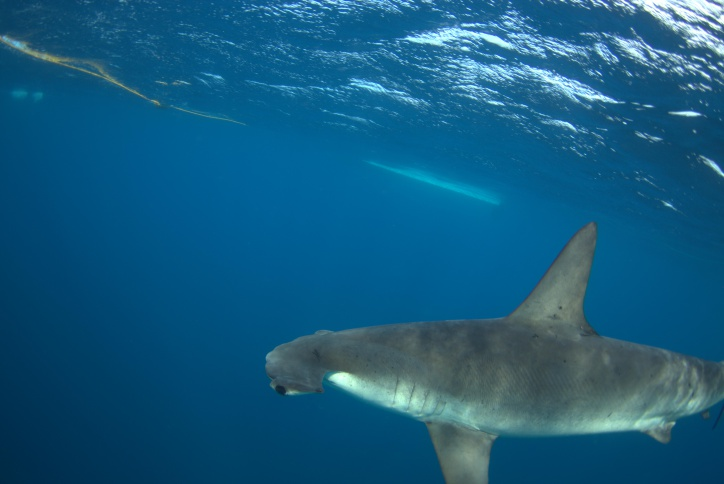Hammer: (256, 204, 724, 481)
